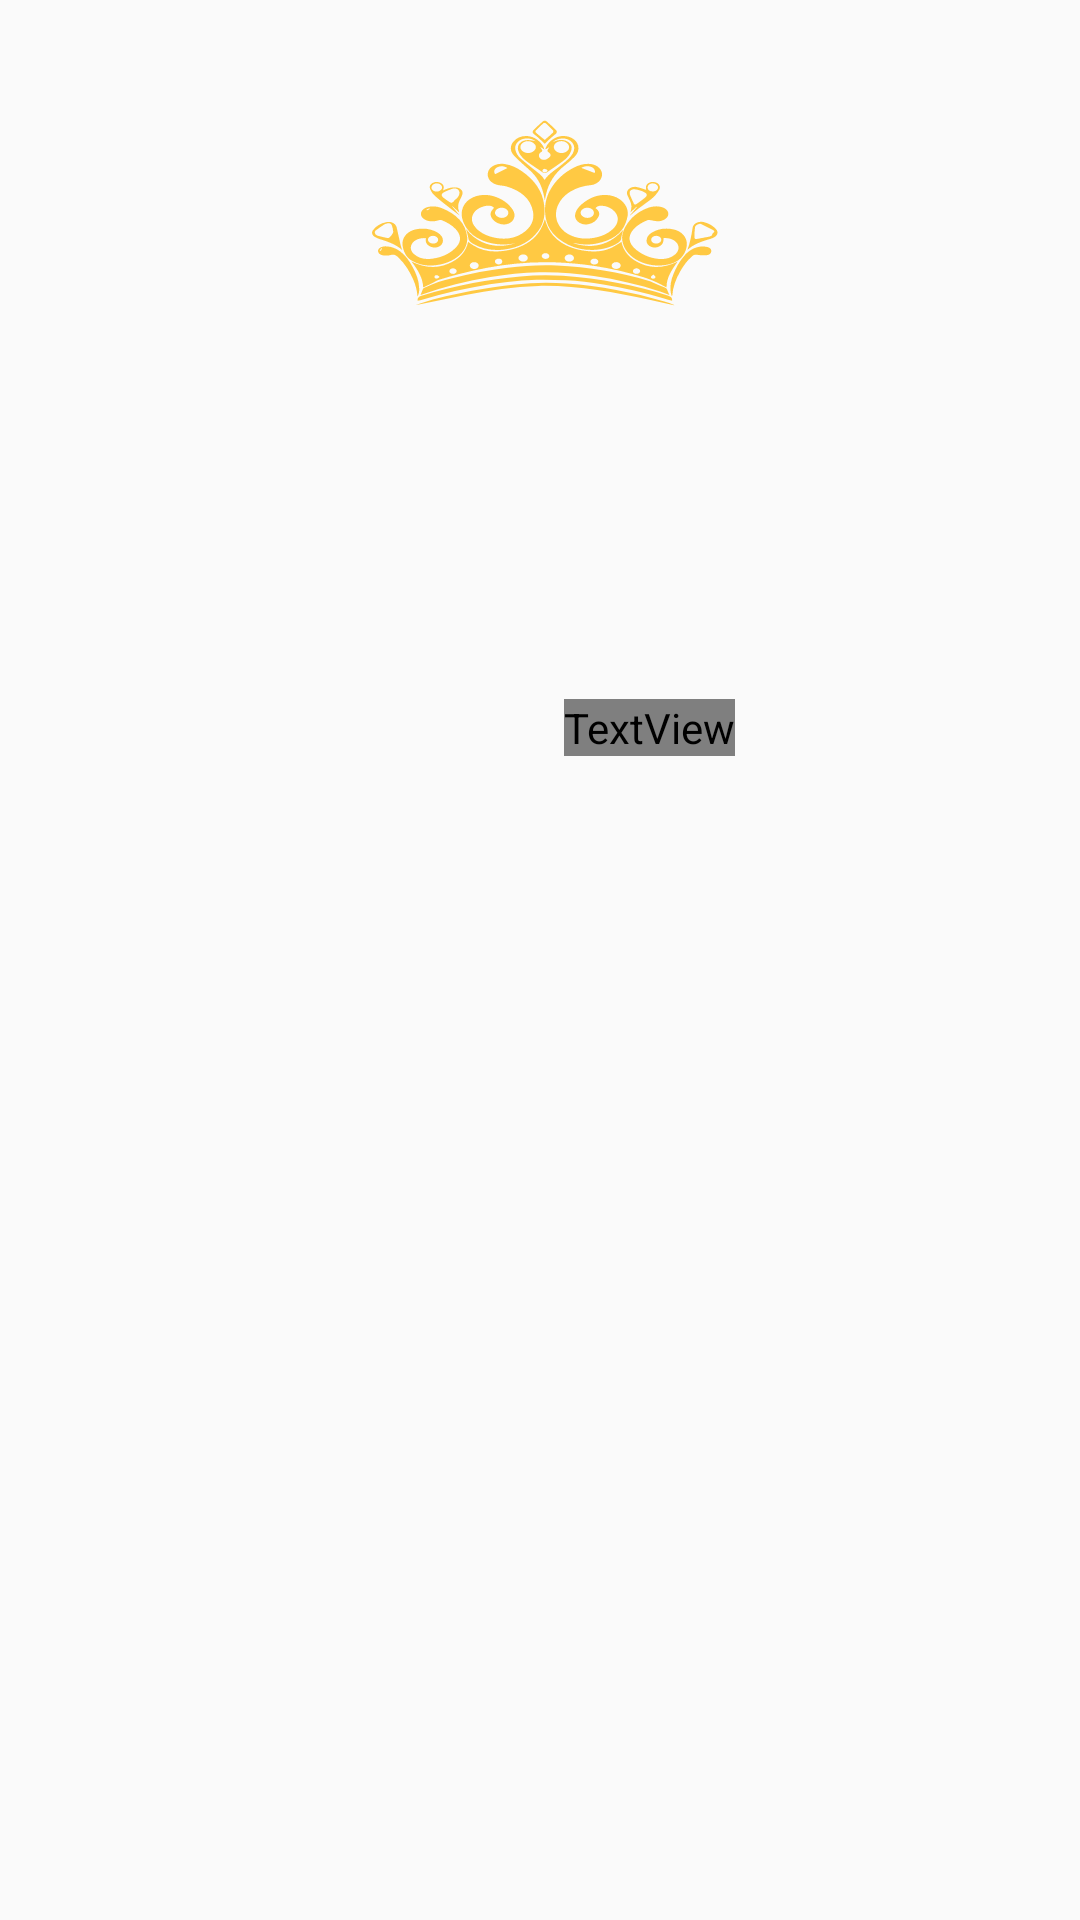

Icon bounding boxes for this 1080w x 1920h phone screenshot, format {"x1": x1, "y1": y1, "x2": x2, "y2": y2}:
crown: {"x1": 372, "y1": 120, "x2": 718, "y2": 305}
